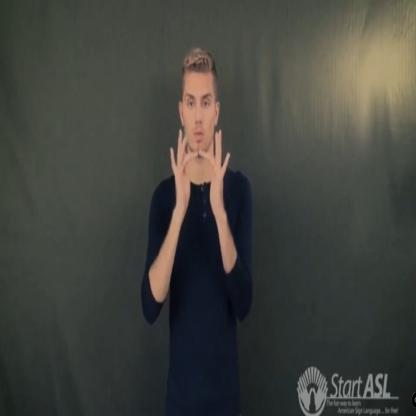Internet: (166, 113, 242, 219)
